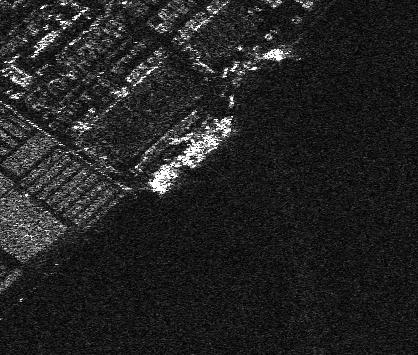ship: (147, 112, 230, 198)
